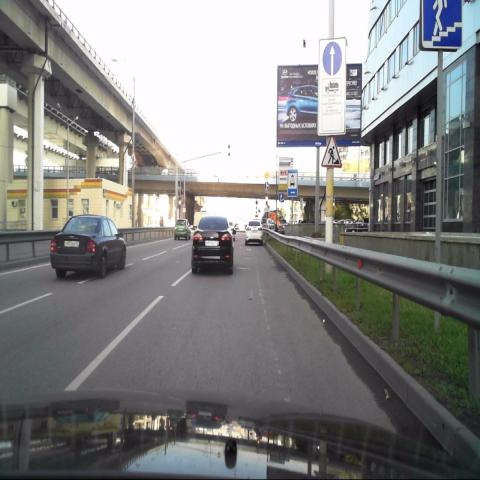7_5: (288, 168, 298, 196)
